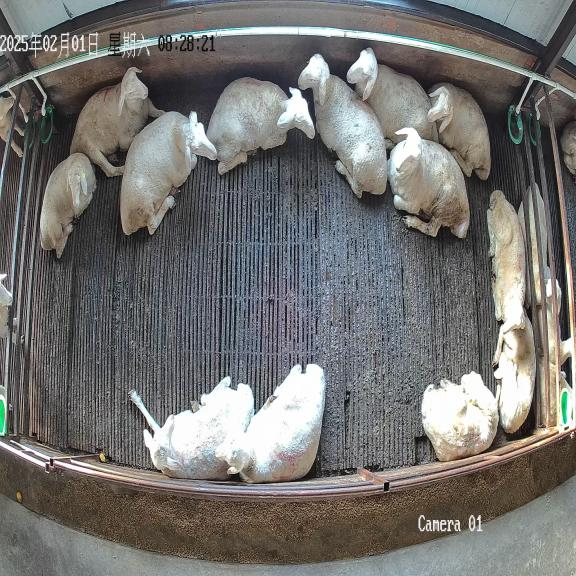lying: (216, 364, 325, 483), (130, 376, 254, 480), (298, 54, 387, 197), (120, 111, 217, 235), (206, 77, 315, 174), (70, 67, 163, 177), (346, 47, 438, 148), (388, 127, 470, 238), (421, 372, 499, 461), (428, 83, 490, 180), (40, 153, 96, 258), (486, 190, 526, 333), (492, 310, 536, 433)
